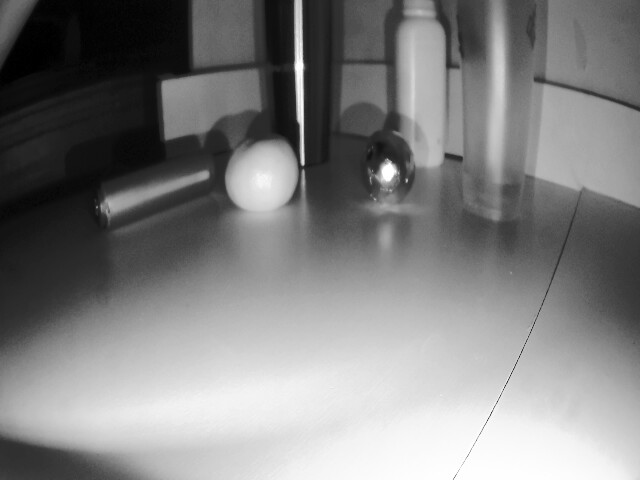silver: (352, 138, 426, 199)
